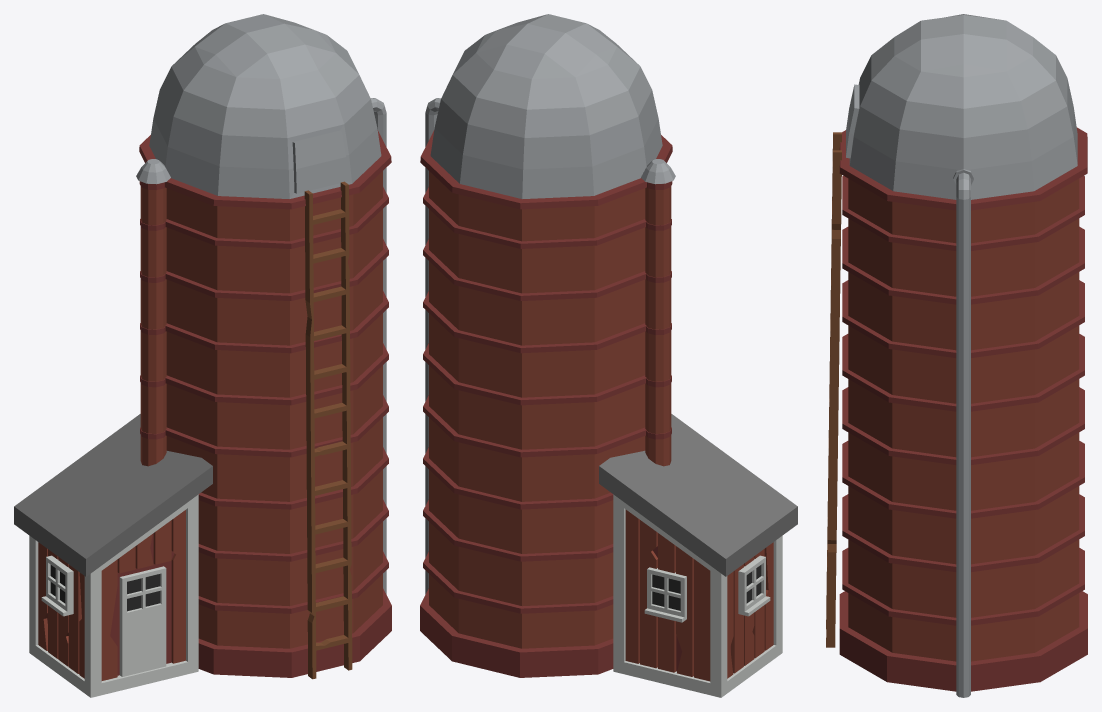
The model's file is quaternius-farm-buildings-silo-house.glb.
The picture shows the model from 3 angles, left to right: view 1: azimuth 30°, elevation 25°; view 2: azimuth 150°, elevation 25°; view 3: azimuth 270°, elevation 25°; orthographic projection. The views are drawn at different scales.
Parts seen in each view (by area): view 1: Silo_House; view 2: Silo_House; view 3: Silo_House.
Boxes of the visible parts, box(x1,y1,x2,y2) form: Silo_House: box(14, 14, 391, 697); Silo_House: box(420, 14, 797, 697); Silo_House: box(826, 14, 1087, 697).
Size of the model in its own units: 5.34 by 9.07 by 3.51.
1 material, 1 textured.
